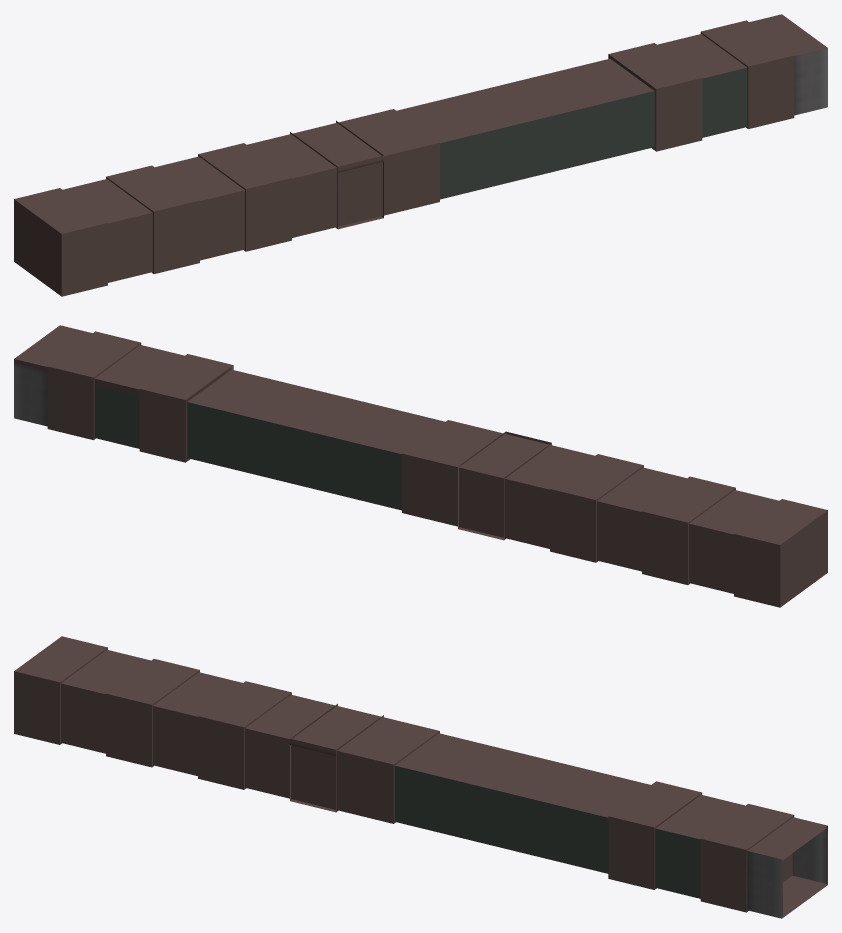
The model's file is section-9.obj.
3 renders of one model, top to bottom at view 1: azimuth 30°, elevation 25°; view 2: azimuth 150°, elevation 25°; view 3: azimuth 330°, elevation 25°, orthographic.
Bounding box in the file's own units: 1 × 0.078 × 0.108.
